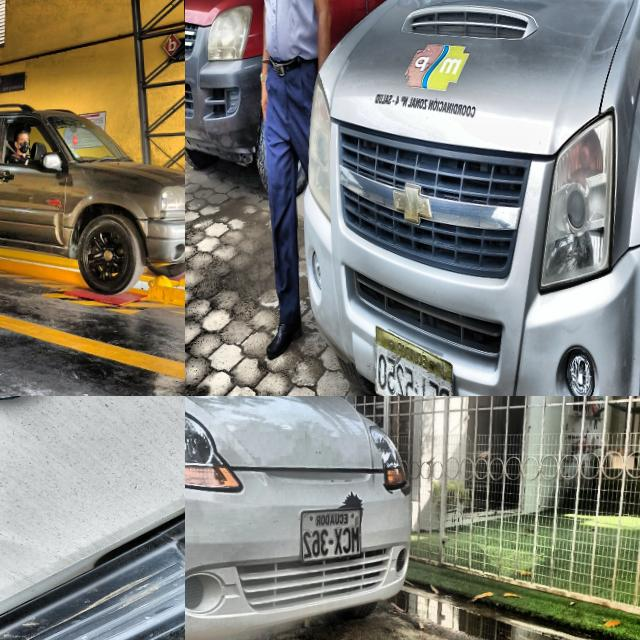license_plate: (373, 317, 456, 396), (298, 505, 362, 564)
